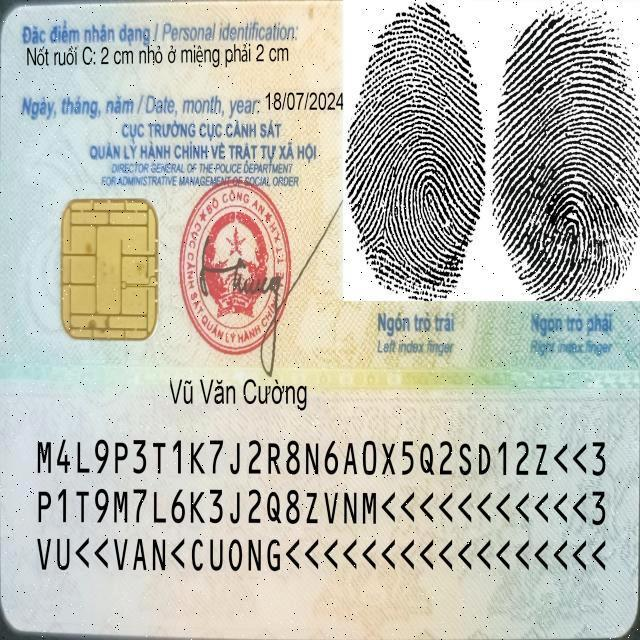features: (21, 42, 306, 74)
finger_print: (491, 2, 640, 358), (342, 2, 487, 363)
issue_date: (263, 85, 346, 117)
